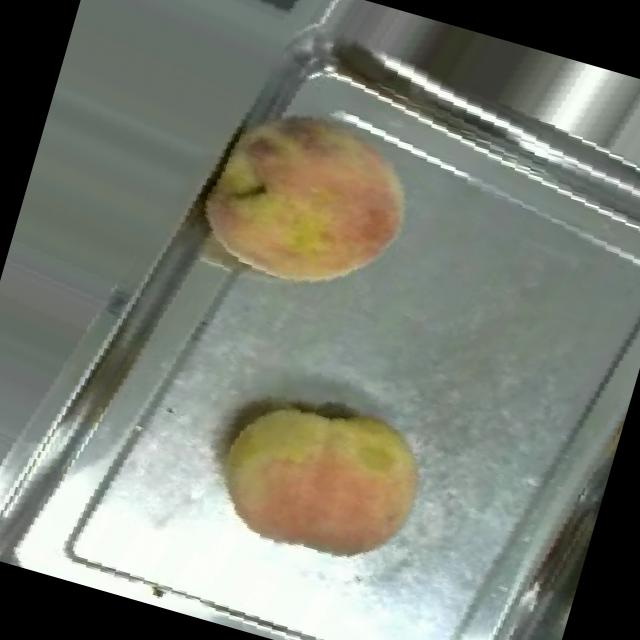Fruit: (158, 54, 459, 342), (178, 352, 460, 600)
